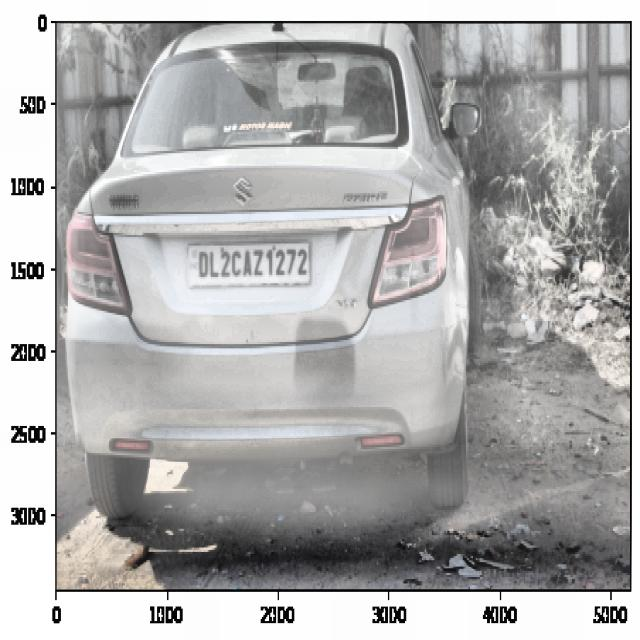license_plate: (194, 245, 314, 284)
